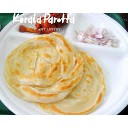parota: (6, 33, 80, 101), (37, 53, 103, 115)
